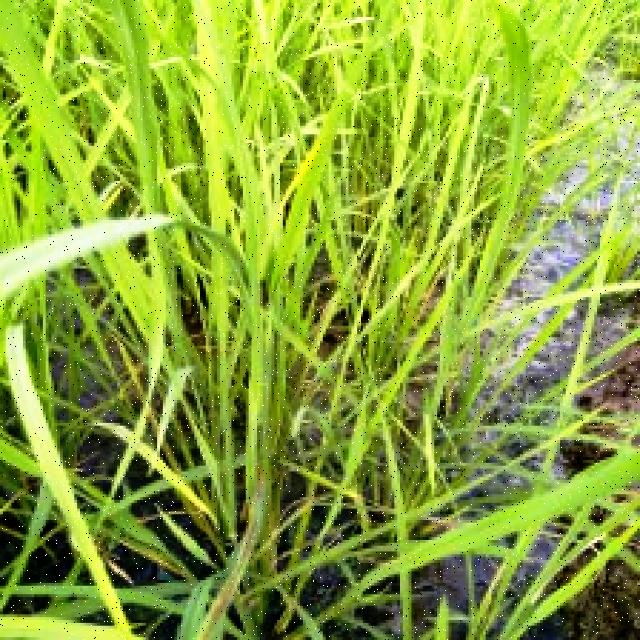health: (0, 0, 468, 540)
